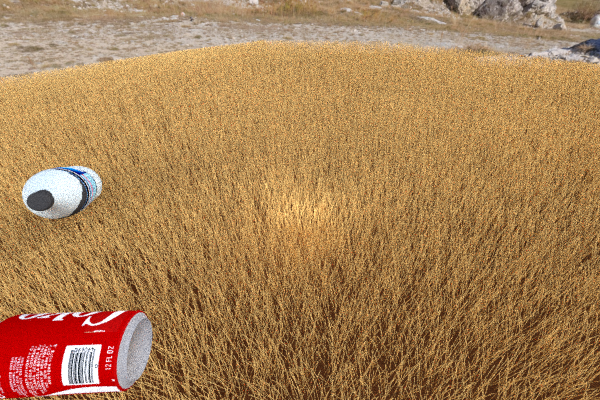Plastic Bottle: (0, 310, 152, 399), (22, 165, 101, 219)
